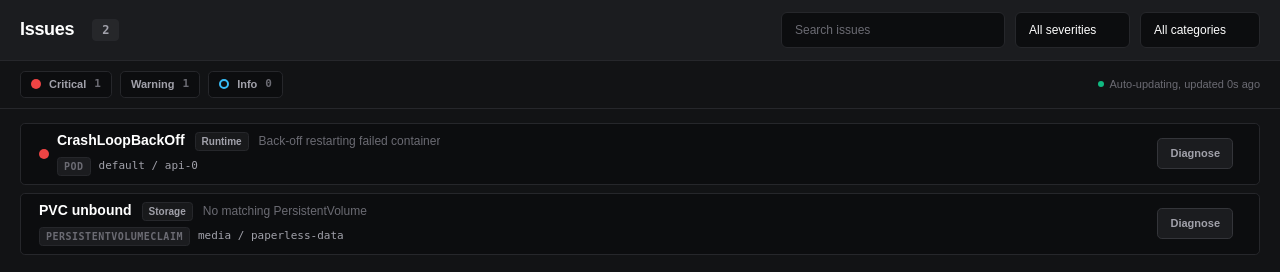
Scenario: IssuesPanel › filters the list by search
Type "paperless" into the field labelled "Search issues" at (893, 30), box [795, 22, 991, 38]
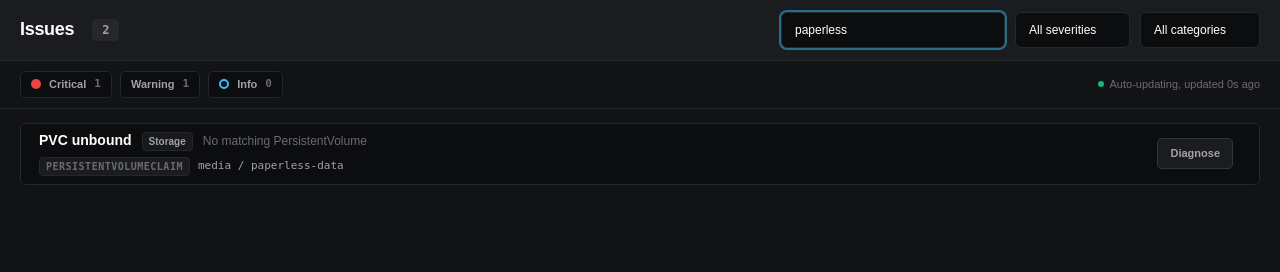
Expected: the button "PVC unbound" is shown, [39, 132, 132, 150]
Expected: the button "CrashLoopBackOff" is gone
